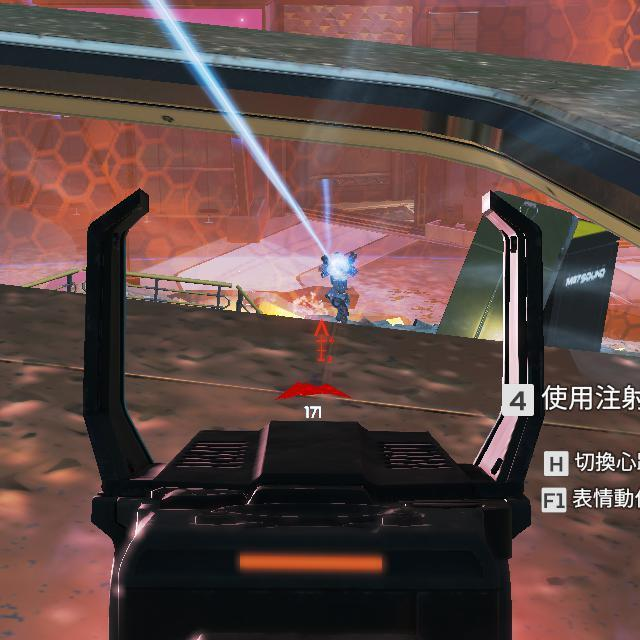avatar: (317, 249, 360, 325)
object: (324, 252, 354, 283)
